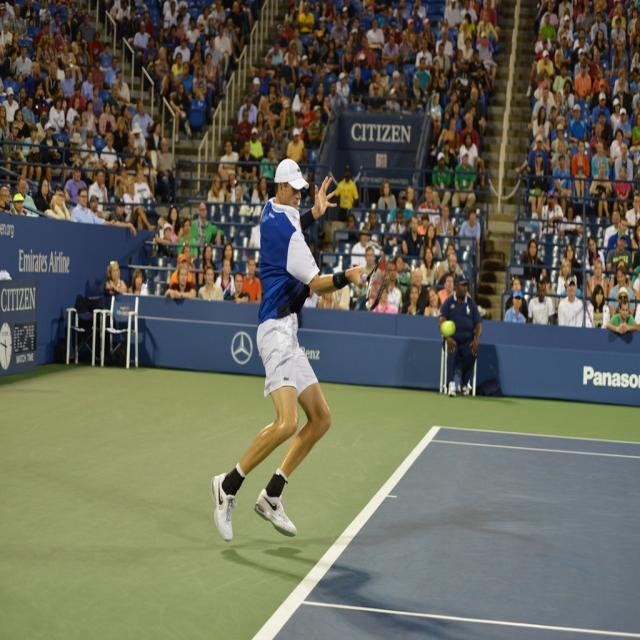Tennis ball: (443, 323, 455, 339)
